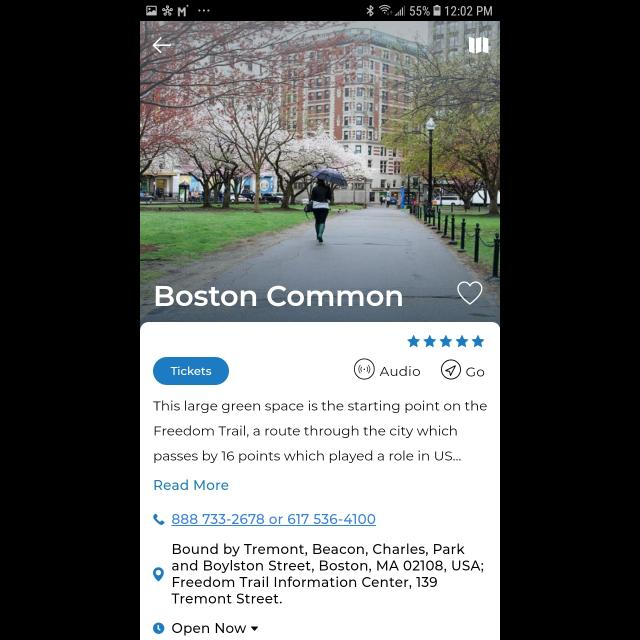icon: (408, 334, 484, 348), (457, 282, 483, 304), (441, 360, 462, 380), (468, 37, 488, 54), (153, 38, 171, 54), (153, 622, 165, 634), (154, 567, 164, 581), (250, 627, 258, 631)
image: (140, 22, 500, 322), (354, 358, 374, 379), (153, 514, 165, 526)
text: (154, 401, 486, 464), (172, 544, 483, 604), (156, 286, 402, 306), (172, 514, 376, 526), (172, 624, 246, 636), (155, 480, 229, 490), (380, 366, 420, 376), (466, 367, 484, 377)
textbutton: (153, 357, 229, 385)
uppertaskbar: (140, 1, 500, 22)
